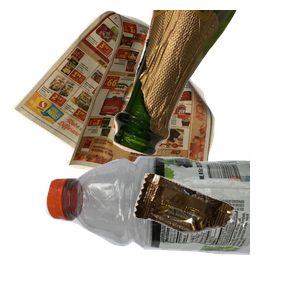glass: (111, 10, 300, 158)
paper: (10, 10, 217, 189)
plastic: (43, 152, 283, 300)
trash: (131, 171, 300, 300)
